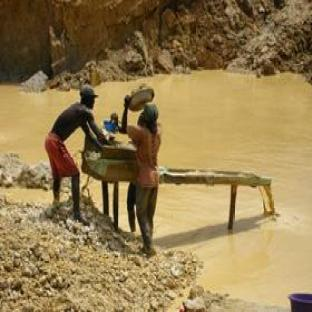Person: (45, 69, 97, 219)
ProcessingEquipment: (77, 132, 274, 224), (121, 82, 171, 257)
